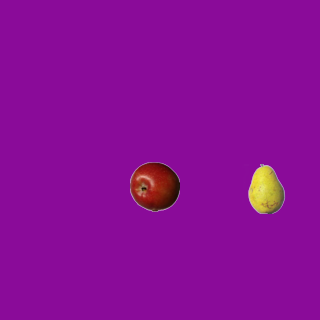Apple Braeburn: (129, 161, 179, 211)
Pear Monster: (241, 163, 291, 213)
